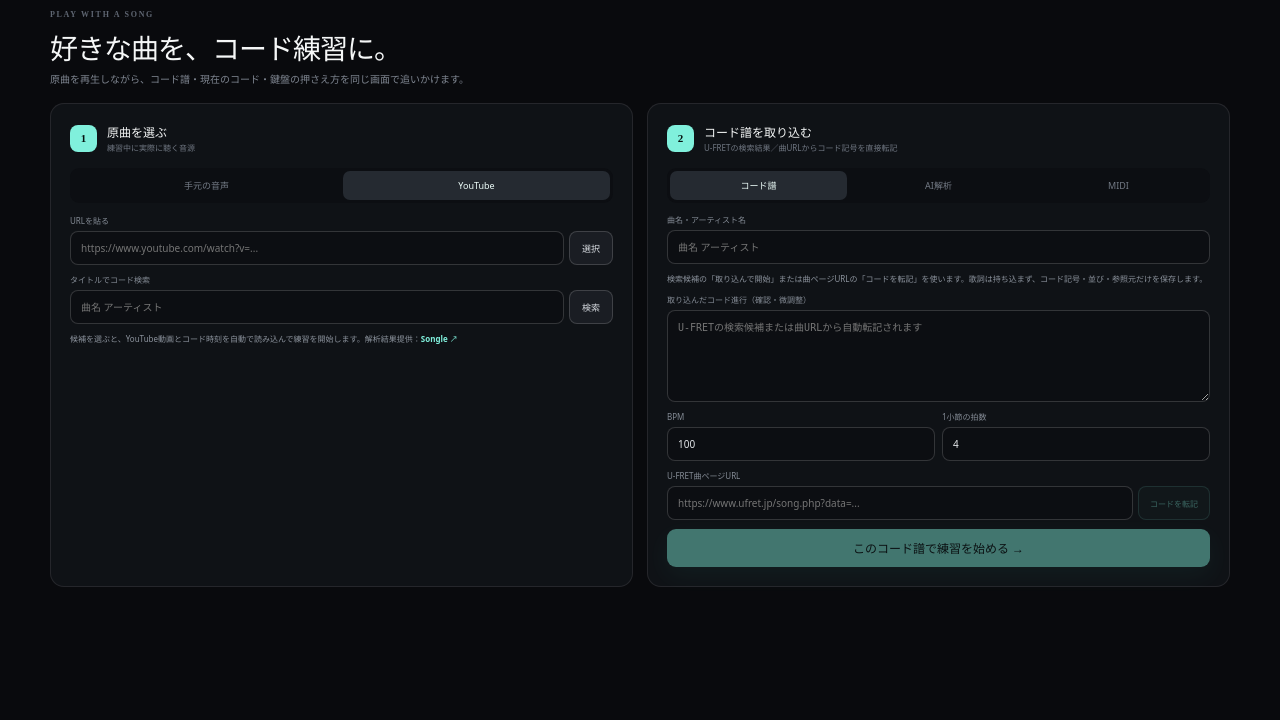
曲で弾くセットアップ › 曲名から外部コード譜を探し、コード記号を入力できる
In the field named "コード譜サイト検索": (938, 247) top-left (667, 230), bottom-right (1210, 264), type "鈴々 PEOPLE 1"
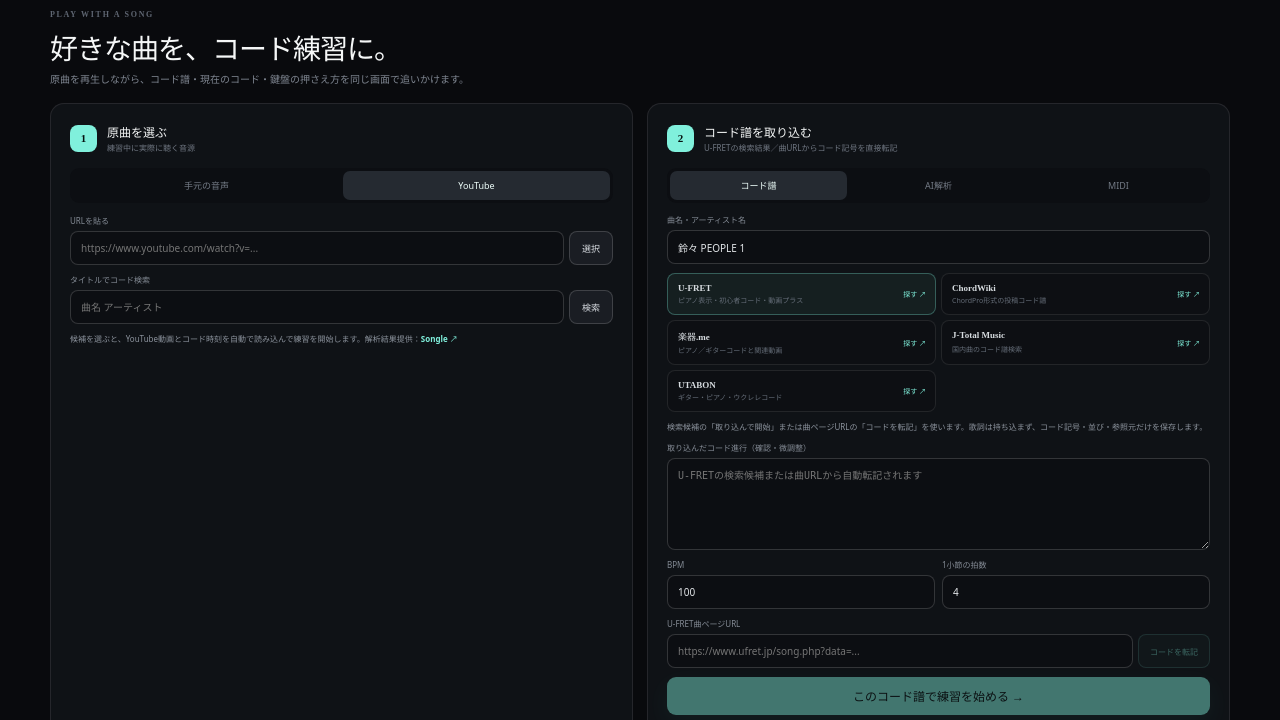
In the text box named "曲のコード譜": (938, 504) top-left (667, 458), bottom-right (1210, 550), type "G#m | C#m | F# | B"
(page scrolled)
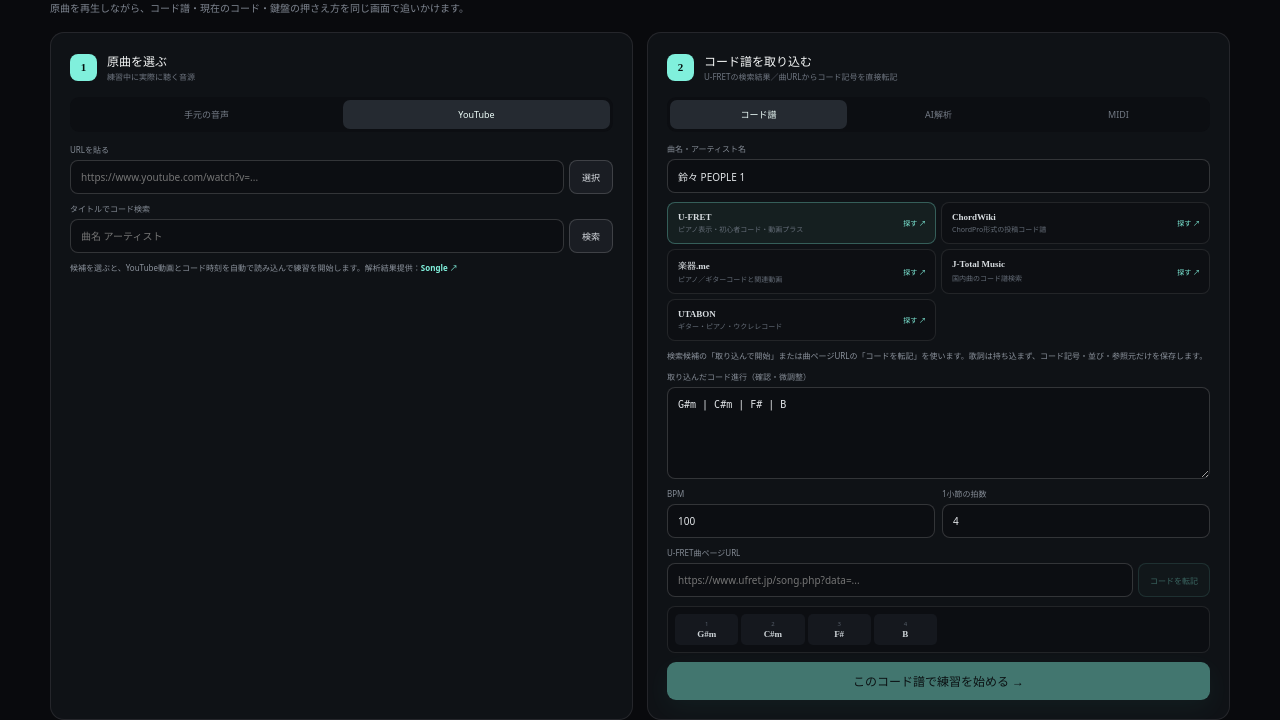
Now the element named "コード譜プレビュー" shows "G#m", box top-left (697, 629), bottom-right (716, 639)
Now the element named "コード譜プレビュー" shows "C#m", box top-left (764, 629), bottom-right (782, 639)
